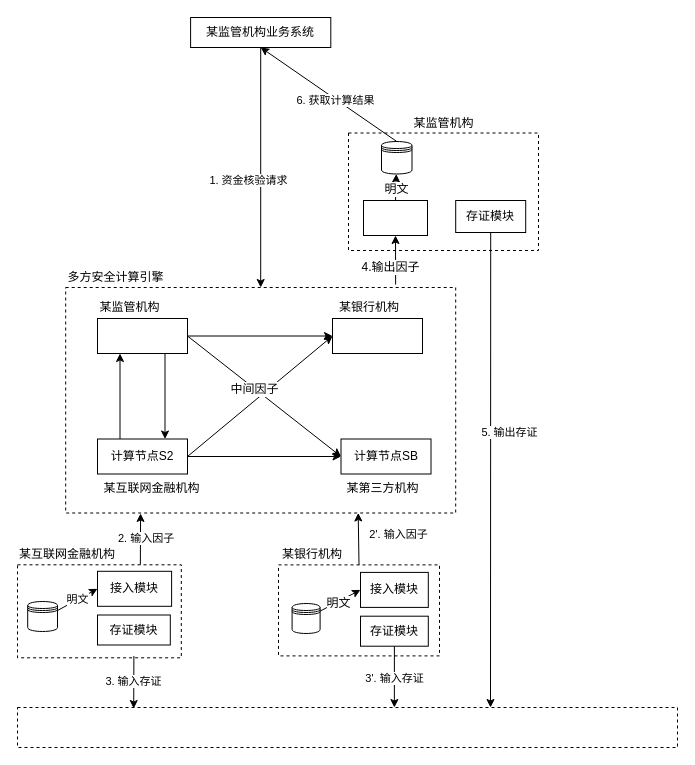
Image size: 695x765. Some labels were removed from this diagram. The shapes that lost their labels are listed below. From the top down, each one's box as (x1, y1, x2, y2) in pixels, then its label:
(362, 200, 428, 236): 输出节点
(96, 318, 188, 354): 计算节点S1
(332, 318, 422, 354): 计算节点SA
(16, 706, 678, 748): 分布式存储服务（存证记录）
